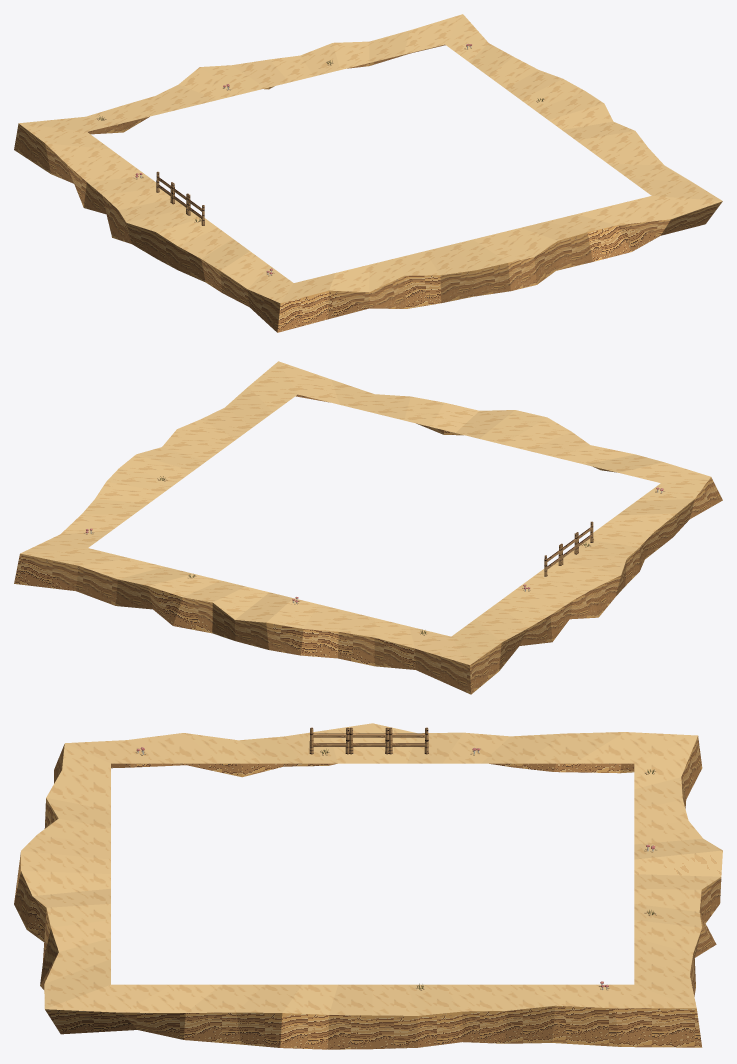
The model's file is entorno.glb.
3 views of the same model, one above another, from view 1: azimuth 30°, elevation 25°; view 2: azimuth 150°, elevation 25°; view 3: azimuth 270°, elevation 25° (orthographic). The views are drawn at different scales.
Parts seen in each view (by area): view 1: deserto_entorno; view 2: deserto_entorno; view 3: deserto_entorno.
Part boxes in pixels (left/top/right/bottom): deserto_entorno: left=14, top=14, right=722, bottom=332; deserto_entorno: left=14, top=361, right=722, bottom=694; deserto_entorno: left=14, top=723, right=722, bottom=1049.
Size of the model in its own units: 16.31 by 1.69 by 16.52.
Materials: 7 (5 with a texture image).
